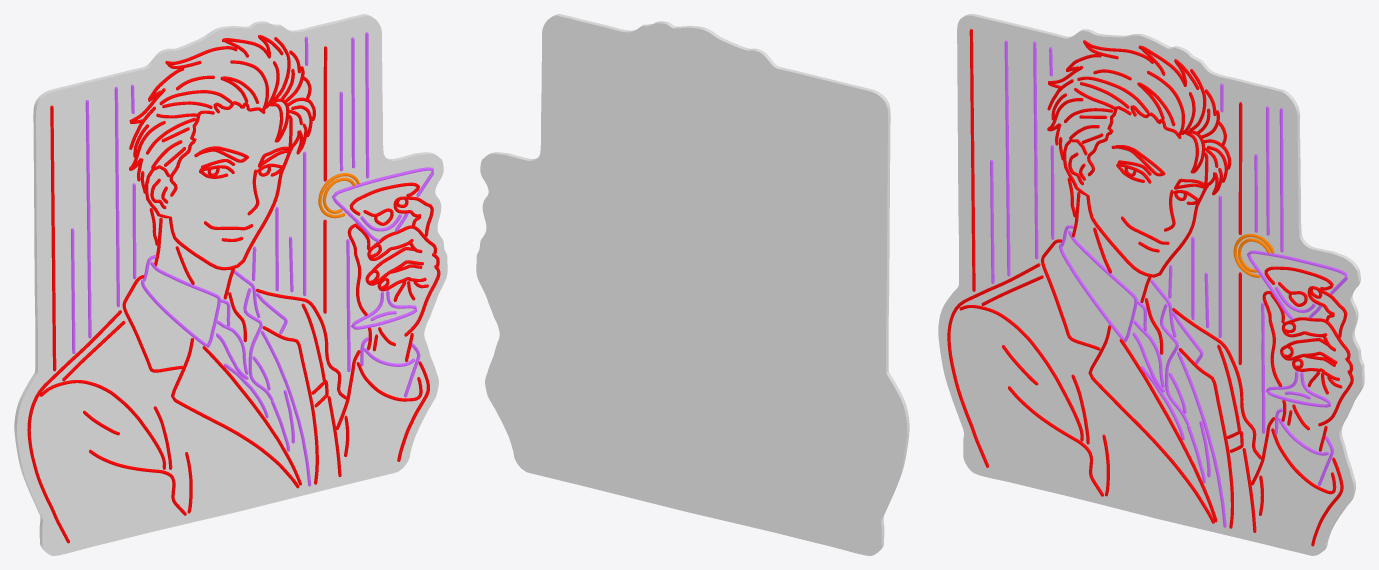
Rendered from カクテル.glb.
The picture shows the model from 3 angles, left to right: view 1: azimuth 30°, elevation 25°; view 2: azimuth 150°, elevation 25°; view 3: azimuth 330°, elevation 25°; orthographic projection.
Size of the model in its own units: 695 by 750 by 11.4.
